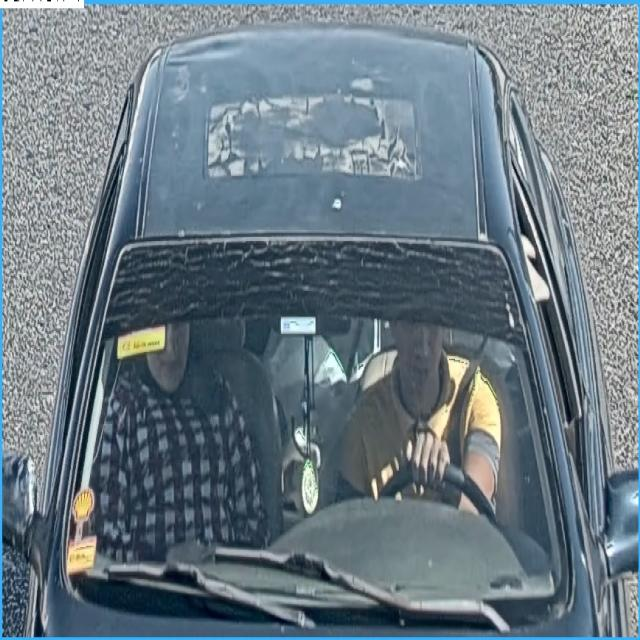windshield: (60, 251, 566, 608)
